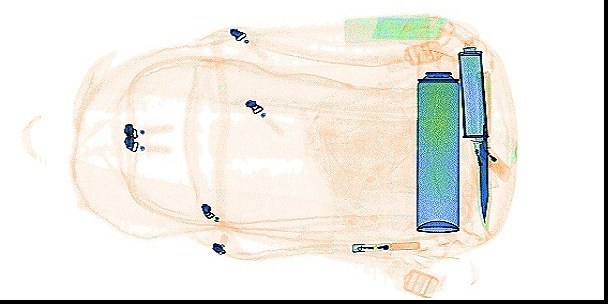knife: (475, 69, 489, 224)
lighter: (467, 137, 499, 188), (475, 137, 508, 182), (349, 240, 417, 249)
pressure: (410, 46, 462, 230)
zippooil: (456, 42, 488, 138)
